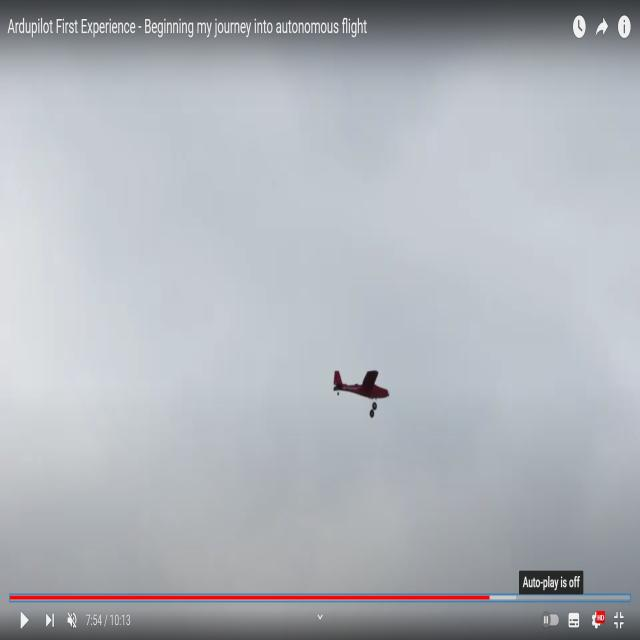iha: (331, 360, 389, 411)
